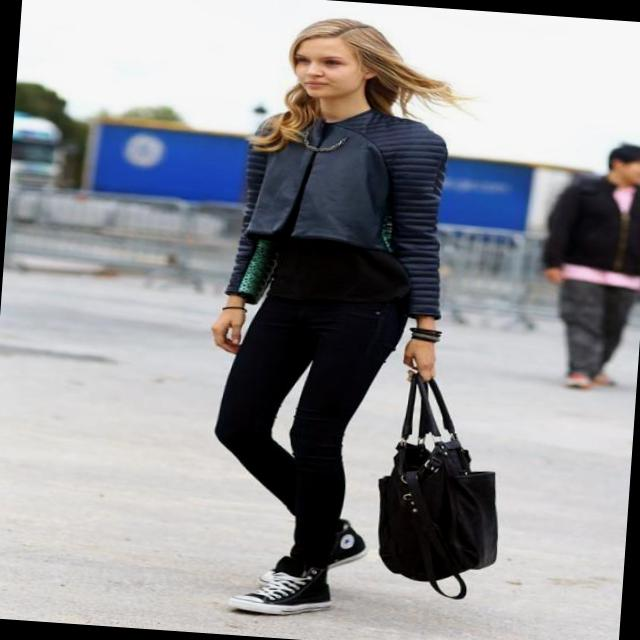pants: (205, 269, 412, 571)
sweater: (220, 98, 450, 318)
